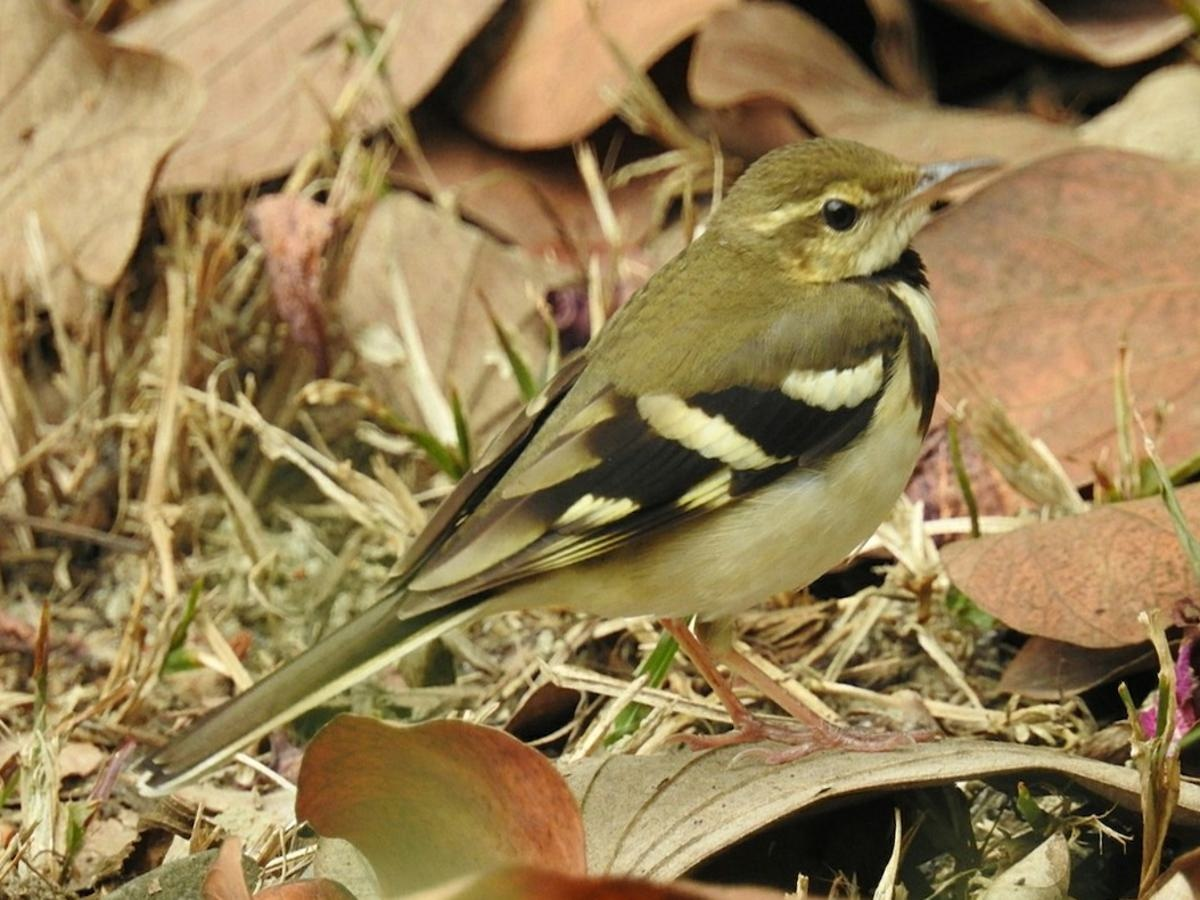wagtail: (247, 136, 1015, 724)
